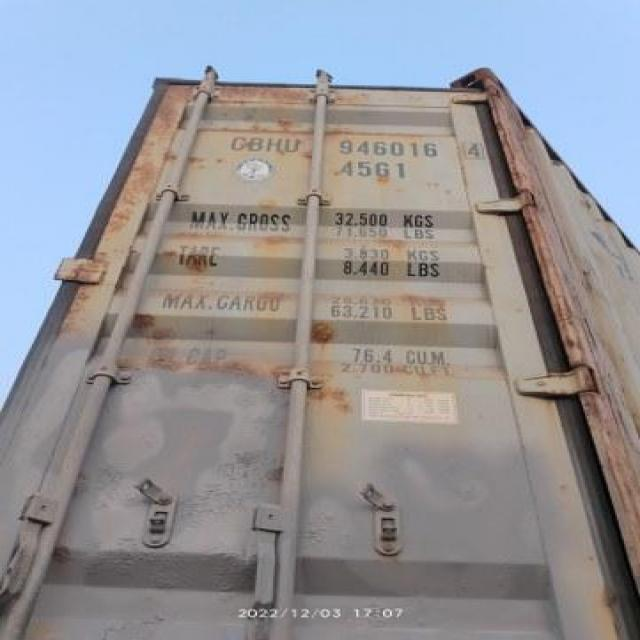container_number_h: (224, 118, 493, 193)
